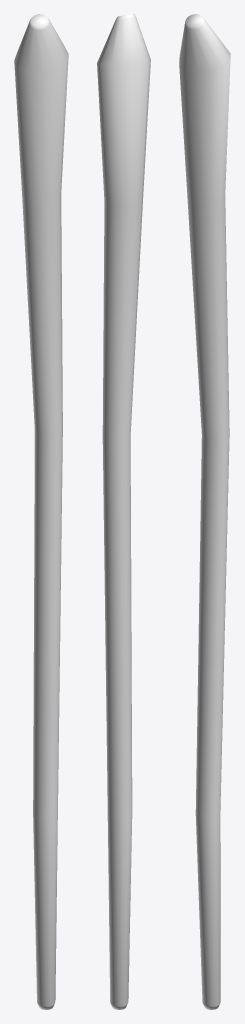
File: darkwood_staff.glb
3 renders of one model, left to right at view 1: azimuth 30°, elevation 25°; view 2: azimuth 210°, elevation 25°; view 3: azimuth 330°, elevation 25°, orthographic.
Parts seen in each view (by area): view 1: Cube; view 2: Cube; view 3: Cube.
Boxes of the visible parts, x1,y1,x2,y2 form: Cube: [14, 14, 68, 1009]; Cube: [97, 14, 150, 1009]; Cube: [179, 14, 230, 1009].
Size of the model in its own units: 0.0472 by 0.9222 by 0.0365.
1 material, 1 textured.
